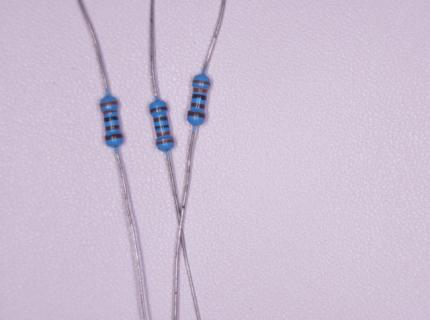Black band: (104, 115, 119, 122), (156, 124, 169, 130), (192, 95, 207, 100)
Brown band: (150, 106, 168, 113), (106, 134, 122, 141), (189, 111, 205, 118), (191, 102, 206, 109), (106, 125, 120, 131), (154, 116, 168, 122)
Orange band: (100, 100, 118, 107), (157, 139, 174, 146), (193, 80, 210, 85), (103, 110, 117, 116), (156, 131, 170, 137), (194, 88, 208, 93)
